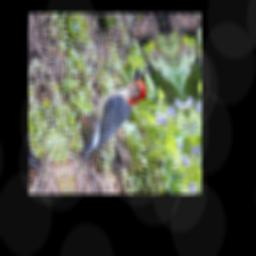Woodpecker: (60, 66, 161, 162)
